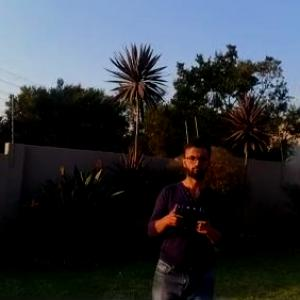follow: (139, 128, 233, 299)
